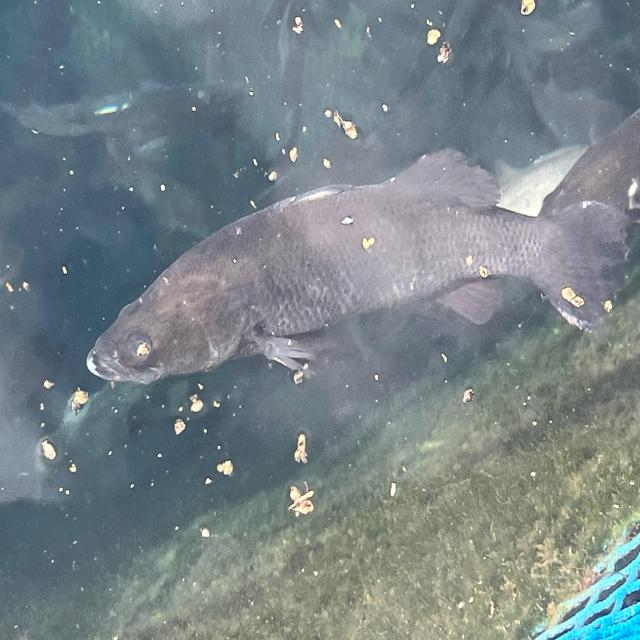ikan: (84, 131, 636, 389)
